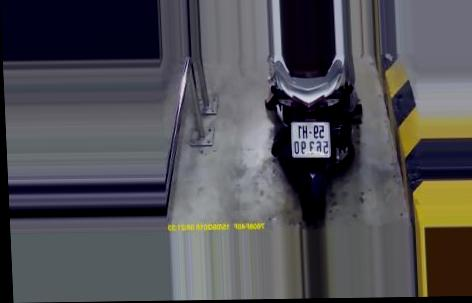License_Plate: (284, 117, 334, 162)
